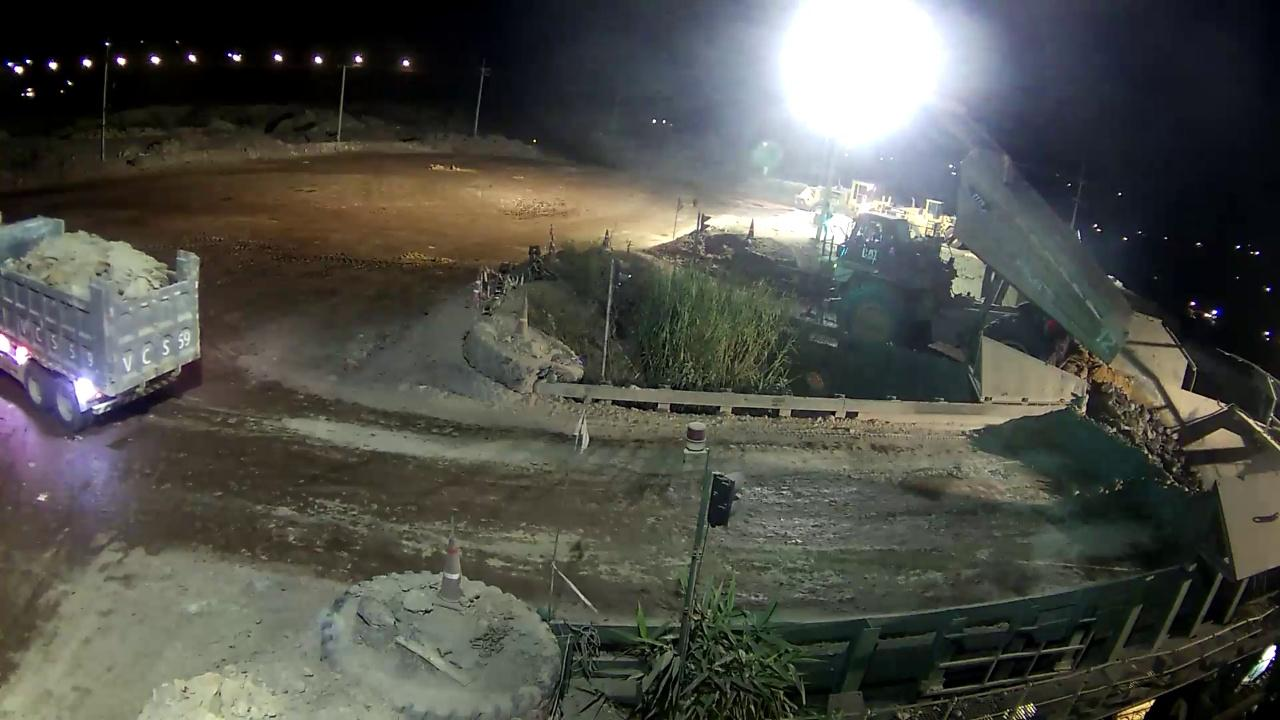dumping_soil: (831, 78, 1149, 399)
tail_number: (1091, 324, 1122, 364)
